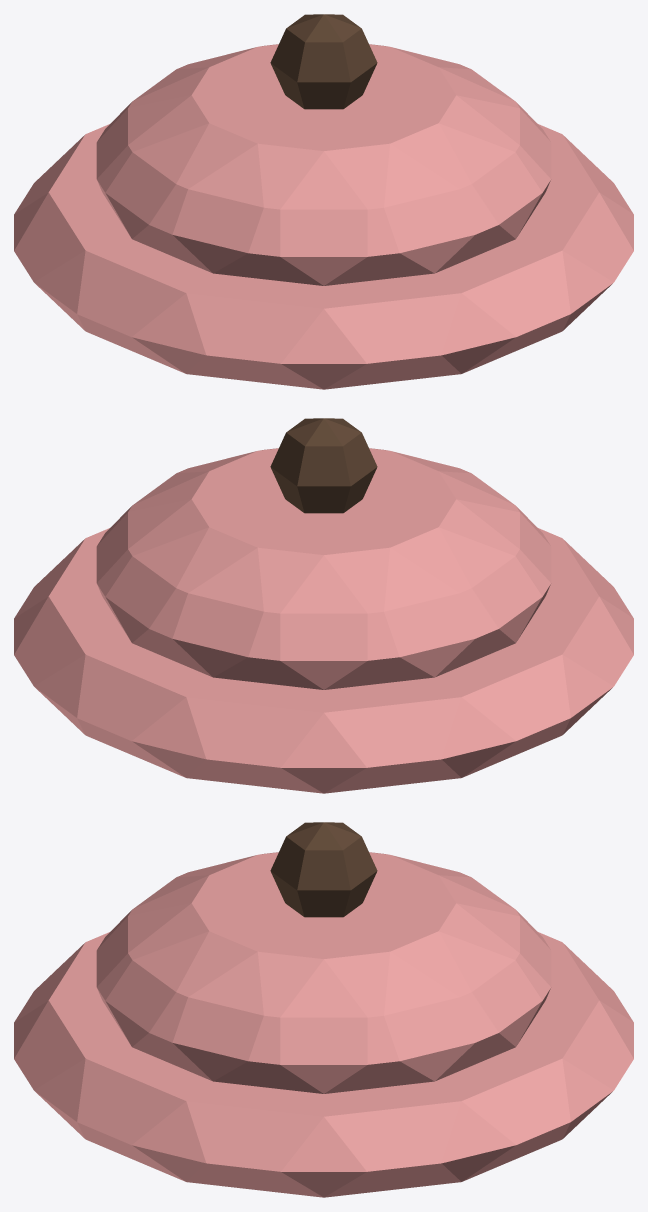
The model's file is CatCafe_Accessory_Hat.glb.
The picture shows the model from 3 angles, top to bottom: view 1: azimuth 30°, elevation 25°; view 2: azimuth 150°, elevation 25°; view 3: azimuth 270°, elevation 25°; orthographic projection.
Visible parts, largest first — view 1: CatCafe_Accessory_Hat; view 2: CatCafe_Accessory_Hat; view 3: CatCafe_Accessory_Hat.
Boxes of the visible parts, x1=… form: CatCafe_Accessory_Hat: x1=14, y1=14, x2=633, y2=389; CatCafe_Accessory_Hat: x1=14, y1=418, x2=633, y2=793; CatCafe_Accessory_Hat: x1=14, y1=822, x2=633, y2=1197.
Size of the model in its own units: 0.6941 by 0.32 by 0.6941.
1 material, 1 textured.
